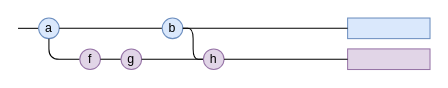
Some shapes in this 448 by 88 pixel diagram are drawn without their labels. The centre of each missing label's shape, as x and y in pixels:
"branch 1" belongs at [388,28].
"branch 2" belongs at [388,59].
